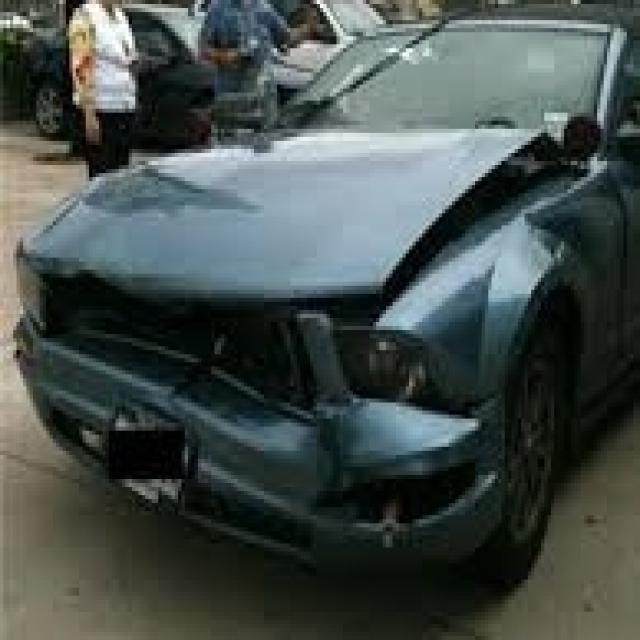moderate: (61, 142, 590, 456)
